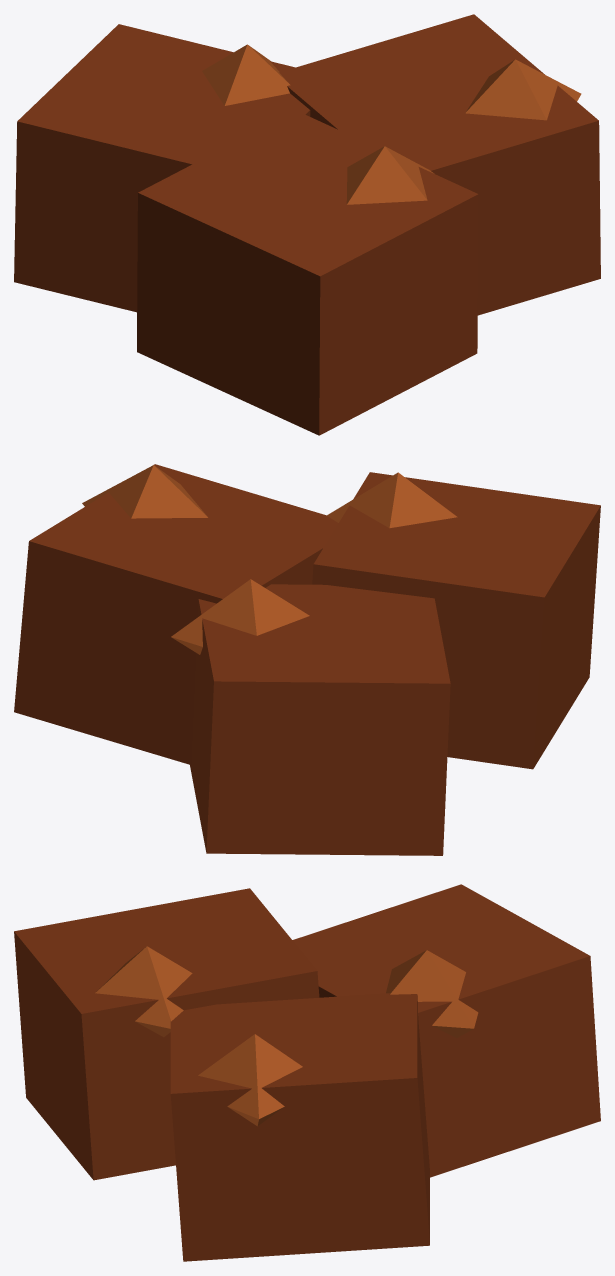
File: pile-soil-3.obj
3 views of the same model, one above another, from view 1: azimuth 30°, elevation 25°; view 2: azimuth 150°, elevation 25°; view 3: azimuth 270°, elevation 25° (orthographic). The views are drawn at different scales.
Parts seen in each view (by area): view 1: pile-soil-3; view 2: pile-soil-3; view 3: pile-soil-3.
Boxes of the visible parts, x1,y1,x2,y2 form: pile-soil-3: (14, 14, 600, 435); pile-soil-3: (14, 464, 600, 855); pile-soil-3: (14, 884, 600, 1261).
Bounding box in the file's own units: 0.6436 × 0.2874 × 0.7118.
Materials: 1 (1 with a texture image).
